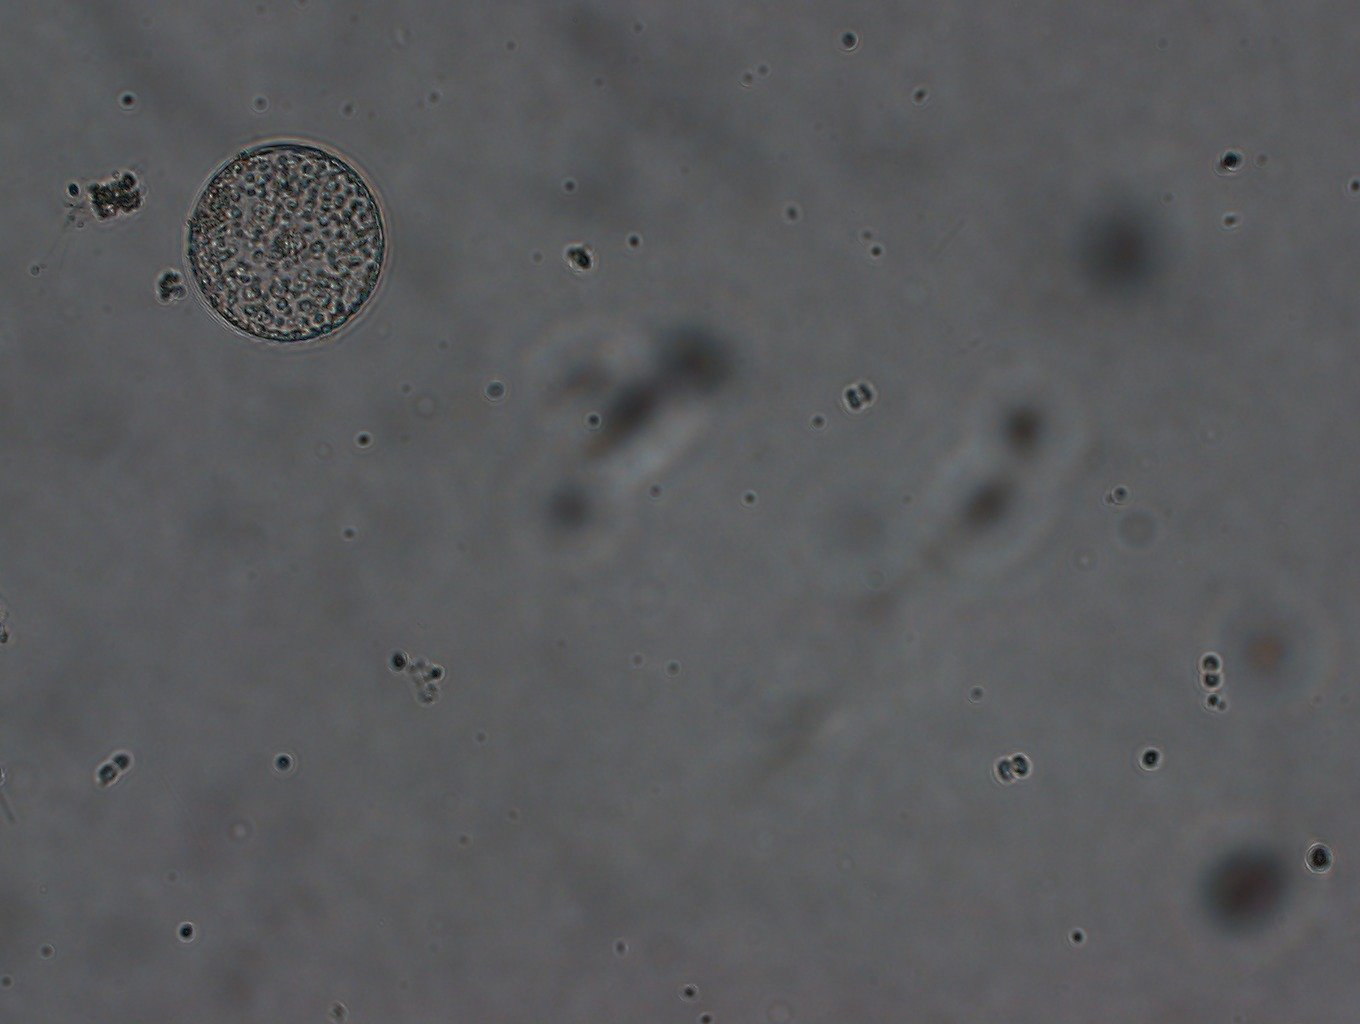coscinodiscus: (180, 136, 392, 347)
